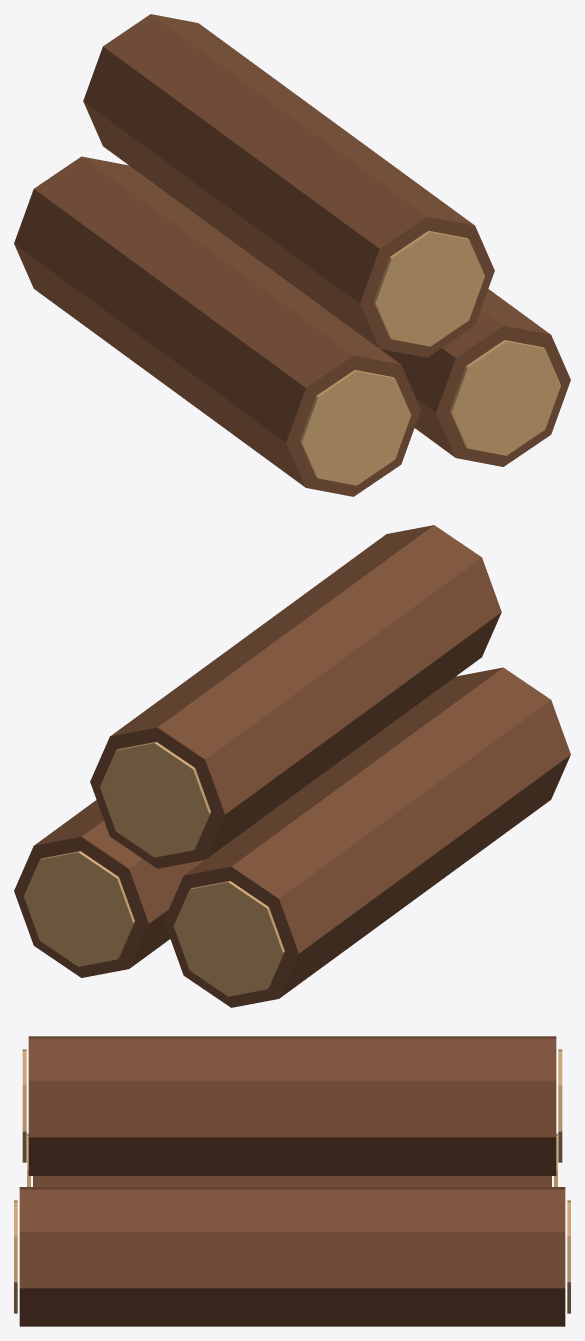
Rendered from wood.glb.
3 renders of one model, top to bottom at view 1: azimuth 30°, elevation 25°; view 2: azimuth 150°, elevation 25°; view 3: azimuth 270°, elevation 25°, orthographic. The views are drawn at different scales.
Visible parts, largest first — view 1: wood; view 2: wood; view 3: wood.
Boxes of the visible parts, x1=… form: wood: x1=14, y1=14, x2=570, y2=496; wood: x1=14, y1=525, x2=570, y2=1007; wood: x1=14, y1=1036, x2=570, y2=1326.
Size of the model in its own units: 1.05 by 0.955 by 1.91.
